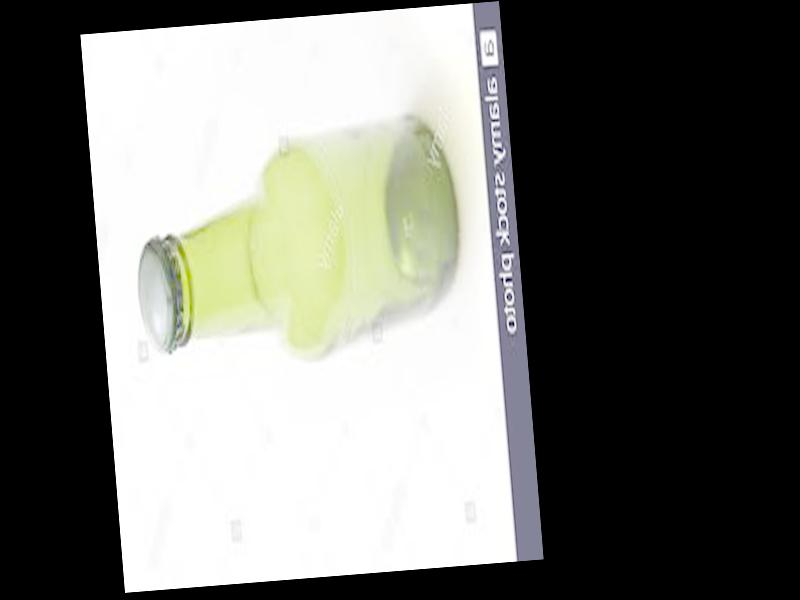Beer: (126, 113, 466, 356)
